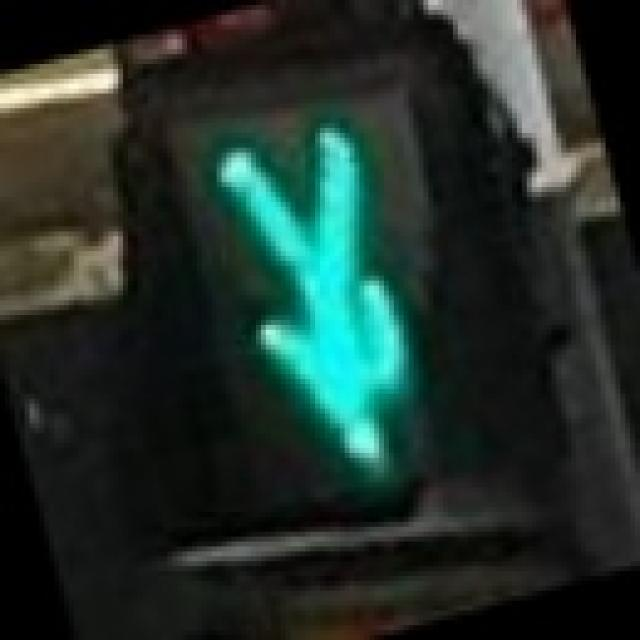green_light: (94, 64, 532, 561)
